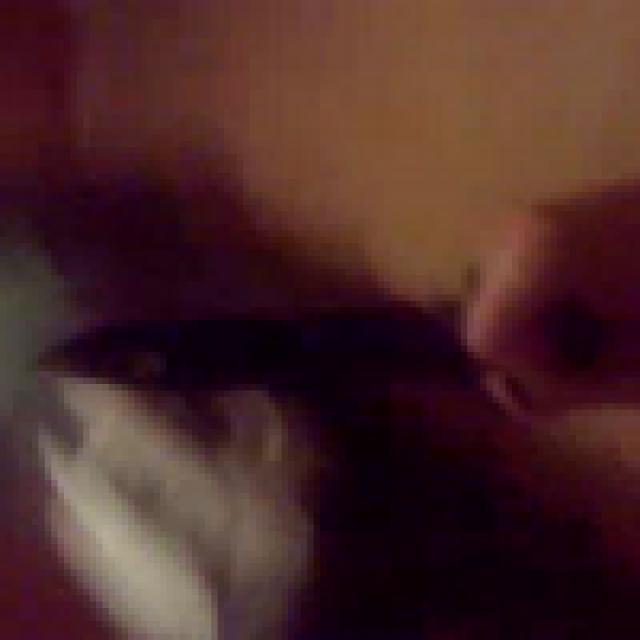Knife_Handle: (32, 176, 640, 426)
